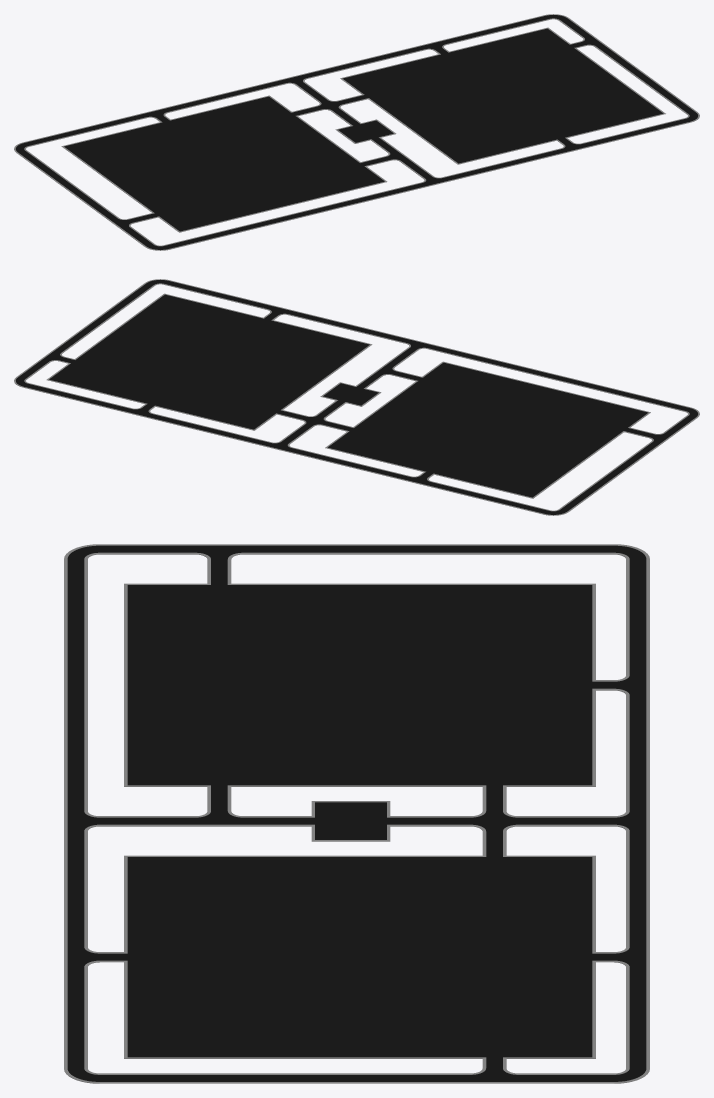
The model's file is gamemapRoad.obj.
The picture shows the model from 3 angles, top to bottom: view 1: azimuth 30°, elevation 25°; view 2: azimuth 150°, elevation 25°; view 3: azimuth 270°, elevation 25°; orthographic projection. The views are drawn at different scales.
Parts seen in each view (by area): view 1: RoadParking_Plane.137; view 2: RoadParking_Plane.137; view 3: RoadParking_Plane.137.
Boxes of the visible parts, bbox=[...] form: RoadParking_Plane.137: bbox=[14, 14, 699, 250]; RoadParking_Plane.137: bbox=[14, 279, 699, 515]; RoadParking_Plane.137: bbox=[64, 544, 649, 1083].
Bounding box in the file's own units: 1067 × 0.3 × 490.
